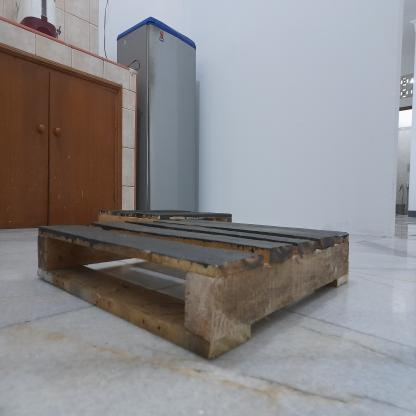Wooden-Pallet: (34, 217, 354, 357)
